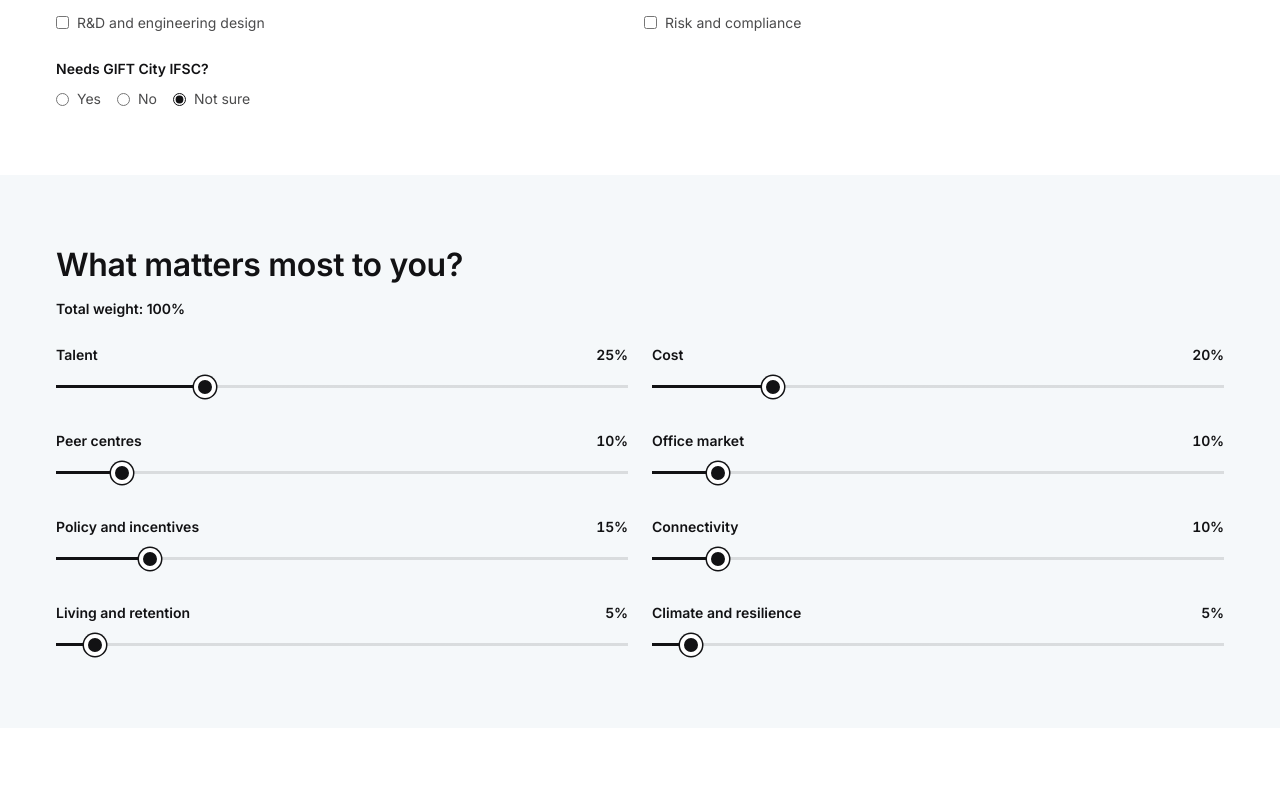
it: LocationFinder › hides the shortlist and shows a prompt when the weights no longer total 100%
(page scrolled)
Set the slider named "talent weight" to "0": (64, 387) [56,375,628,399]
(page scrolled)
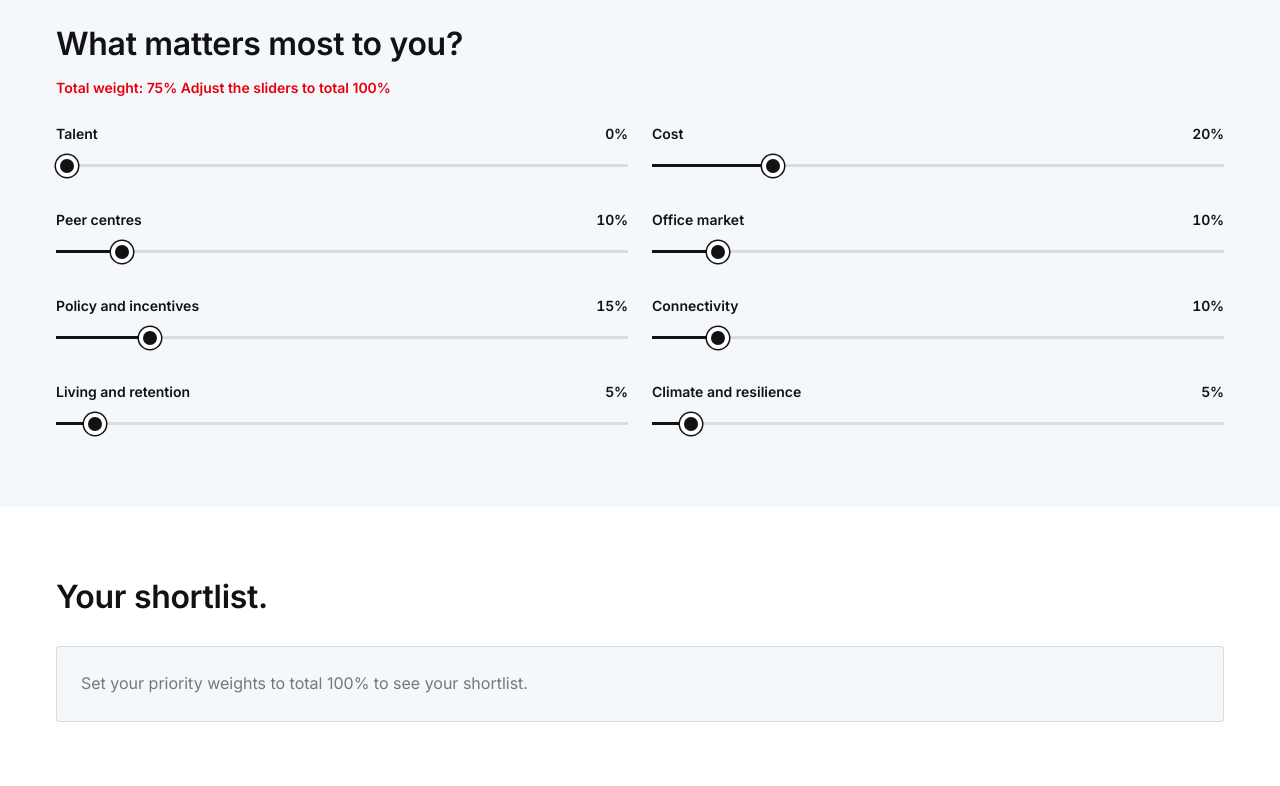
Expected: the text "Set your priority weights to total 100% to see your shortlist" is shown, [81,673,528,693]
